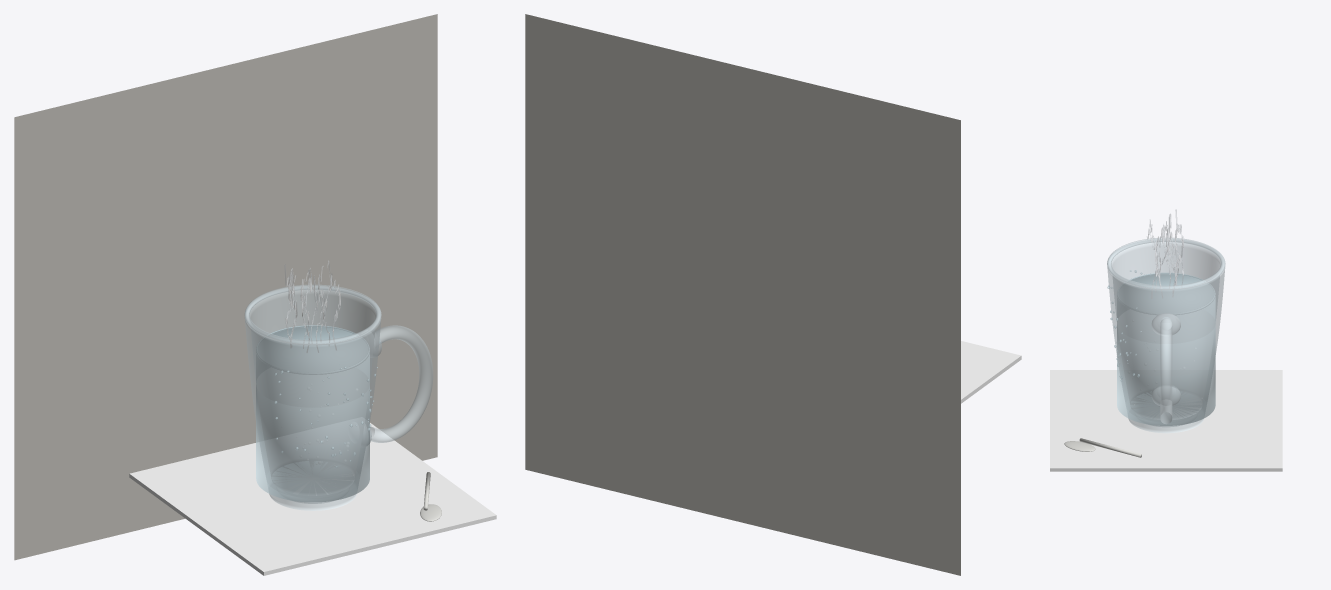
File: copo.glb
3 renders of one model, left to right at view 1: azimuth 30°, elevation 25°; view 2: azimuth 150°, elevation 25°; view 3: azimuth 270°, elevation 25°, orthographic. The views are drawn at different scales.
Parts seen in each view (by area): view 1: Fundo da cena, Mesa de madeira, Copo de vidro com pega, Volume de água quente, Superfície brilhante da água, Pega curva de vidro, Borda superior grossa; view 2: Fundo da cena, Mesa de madeira; view 3: Mesa de madeira, Copo de vidro com pega, Volume de água quente, Superfície brilhante da água, Pega curva de vidro, Borda superior grossa, Junção superior da pega.
Part boxes in pixels (<box>): Fundo da cena: <box>14,14,437,560</box>; Mesa de madeira: <box>129,417,496,575</box>; Copo de vidro com pega: <box>244,286,381,510</box>; Volume de água quente: <box>256,327,369,502</box>; Superfície brilhante da água: <box>256,326,369,374</box>; Pega curva de vidro: <box>370,325,433,442</box>; Borda superior grossa: <box>244,284,381,344</box>; Fundo da cena: <box>525,14,960,575</box>; Mesa de madeira: <box>961,341,1021,403</box>; Mesa de madeira: <box>1050,370,1282,471</box>; Copo de vidro com pega: <box>1107,239,1225,433</box>; Volume de água quente: <box>1117,275,1215,425</box>; Superfície brilhante da água: <box>1117,273,1214,314</box>; Pega curva de vidro: <box>1160,318,1172,424</box>; Borda superior grossa: <box>1107,237,1225,289</box>; Junção superior da pega: <box>1151,313,1180,335</box>.
Bounding box in the file's own units: 8 × 8 × 5.05.
